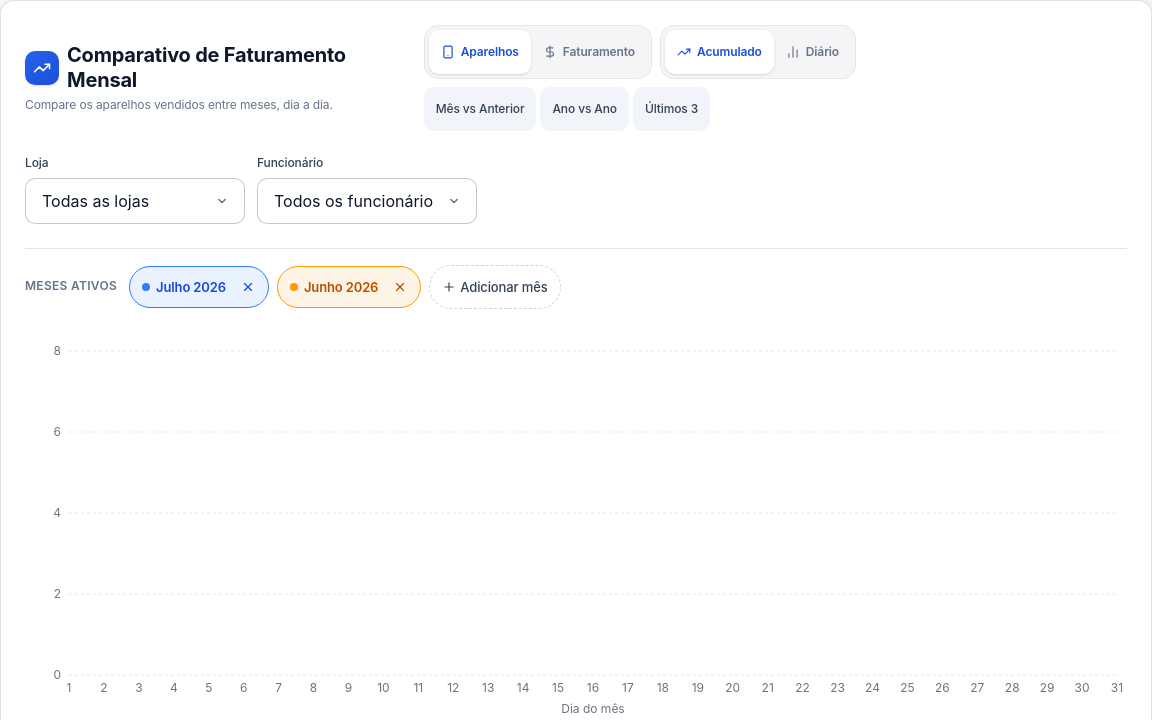
Test case: MonthlyRevenueComparisonChart › filtros de loja e funcionário › clears filters and explains an empty result caused by them
The width and height of the screenshot is (1152, 720).
Select "Loja Norte" in the dropdown labelled "Loja": {"x": 135, "y": 201} top-left (25, 178), bottom-right (245, 224)
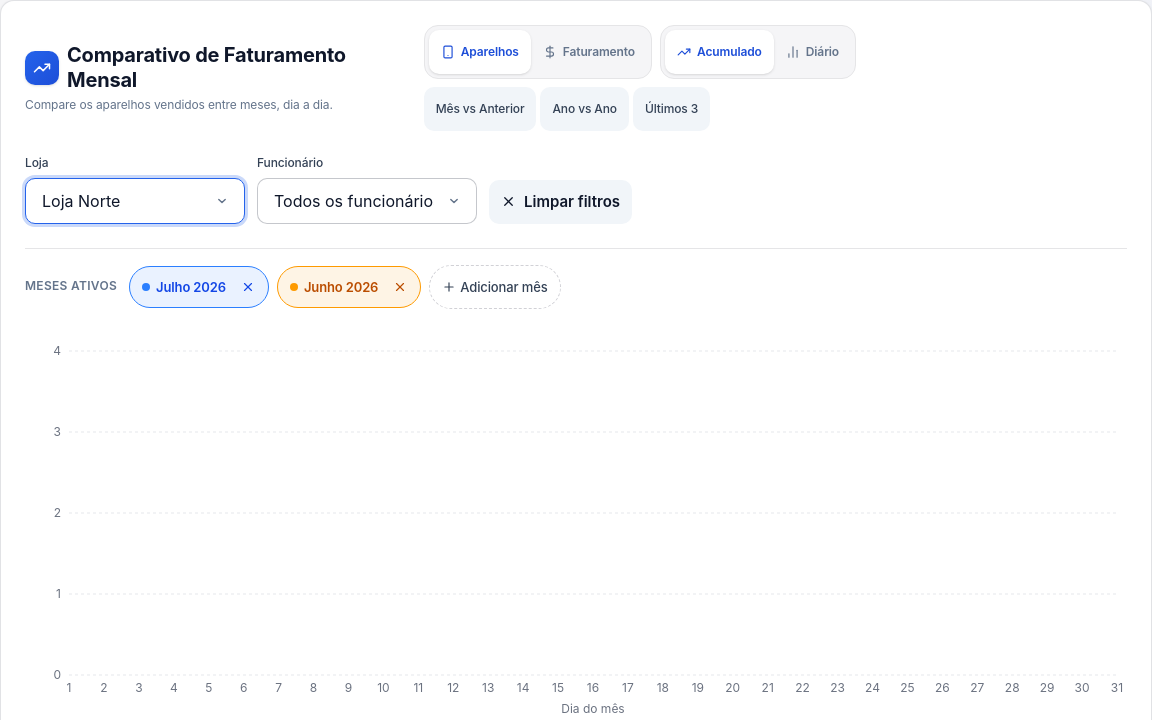
Select "Bruno" in the dropdown labelled "Funcionário": {"x": 367, "y": 201} top-left (257, 178), bottom-right (477, 224)
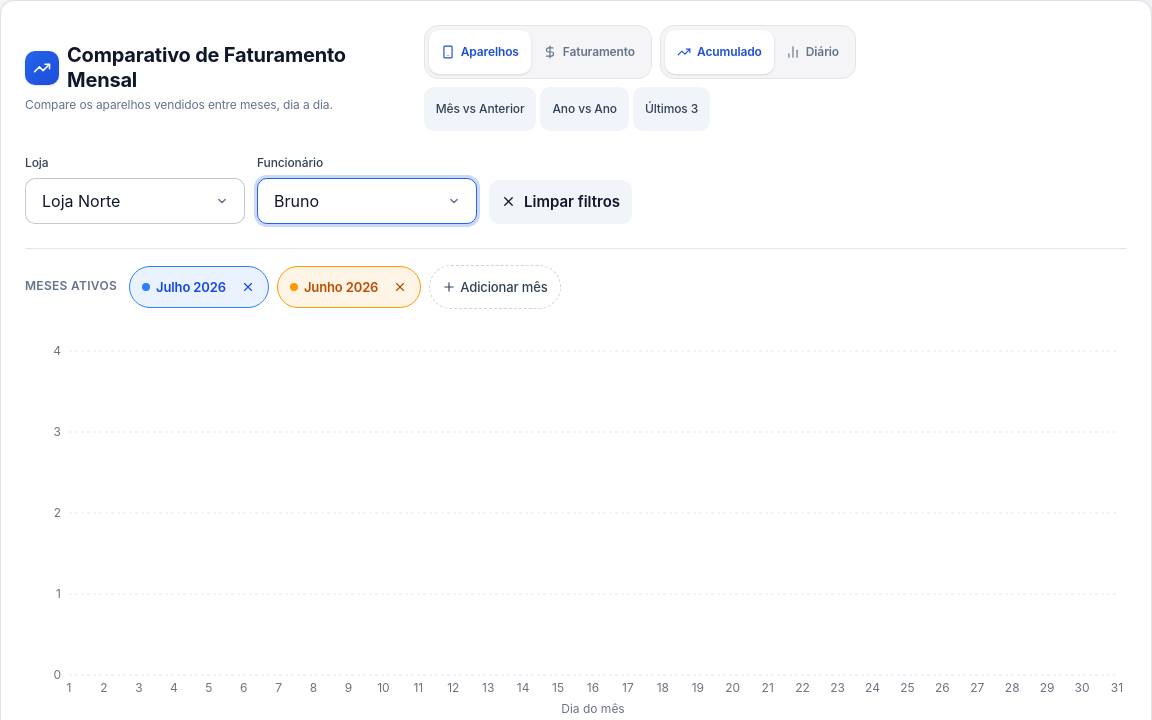
Click the button "Limpar filtros": {"x": 561, "y": 202} top-left (489, 180), bottom-right (632, 224)
(page scrolled)
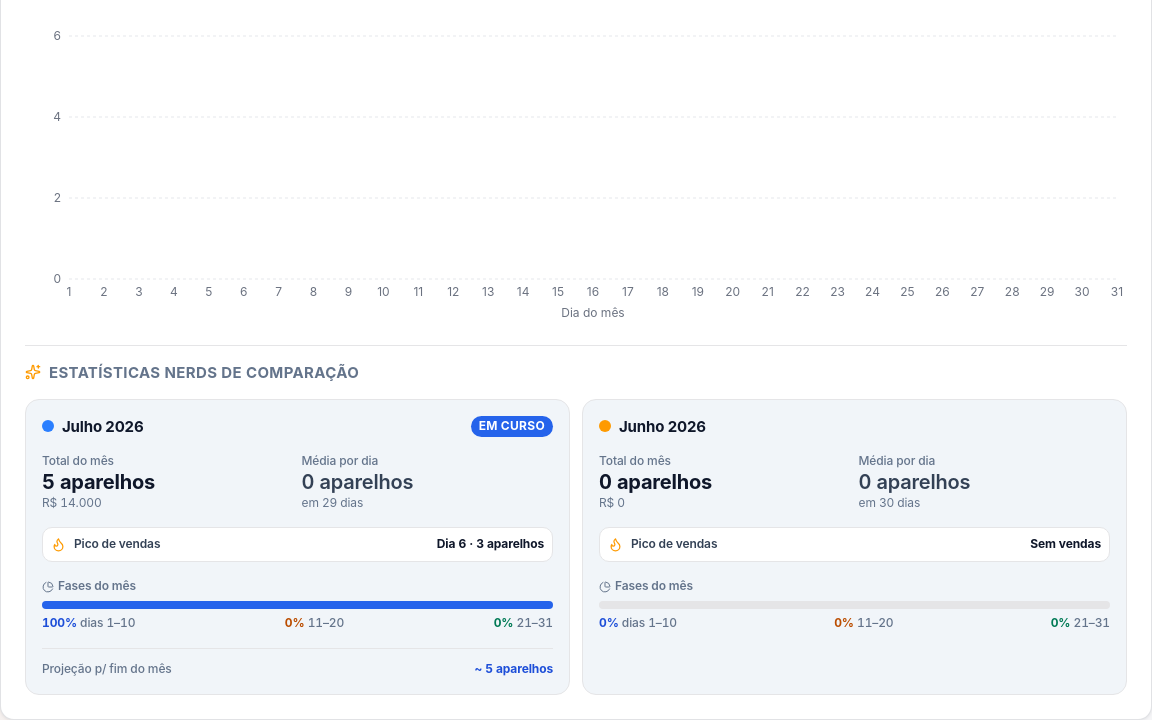
Check: the text "R$ 14.000" is shown, box top-left (42, 495), bottom-right (102, 510)
Check: the button "Limpar filtros" is gone
